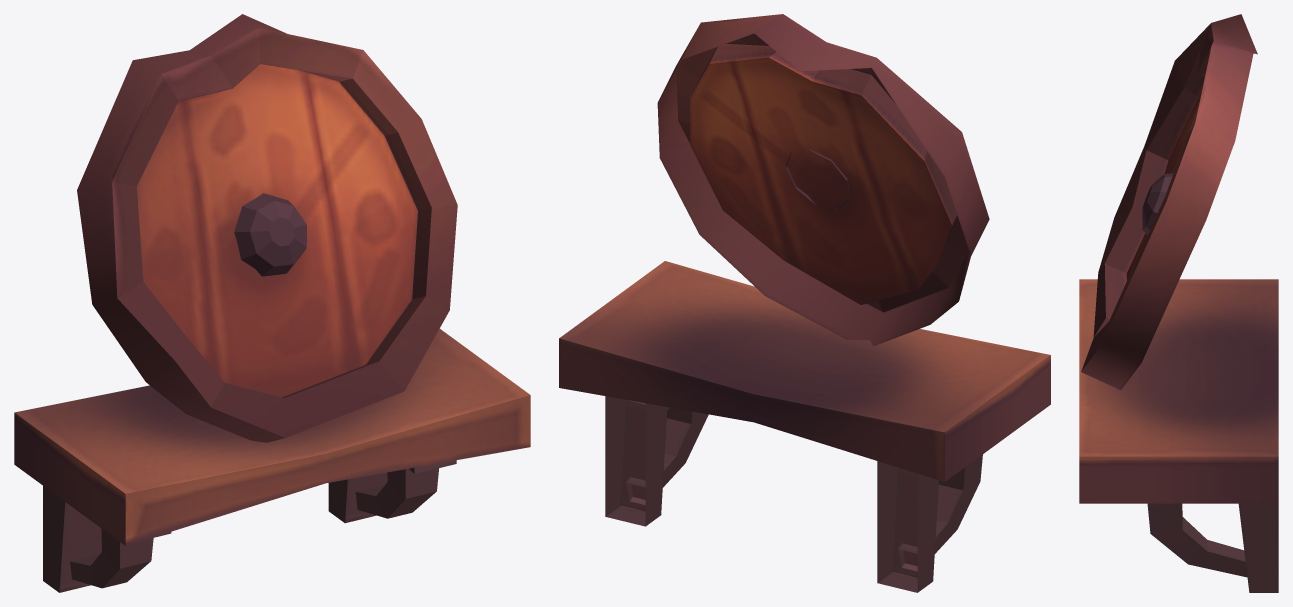
File: 방패전시.fbx
3 renders of one model, left to right at view 1: azimuth 30°, elevation 25°; view 2: azimuth 150°, elevation 25°; view 3: azimuth 270°, elevation 25°, orthographic. The views are drawn at different scales.
Visible parts, largest first — view 1: 방패전시; view 2: 방패전시; view 3: 방패전시.
Boxes of the visible parts, x1=… form: 방패전시: x1=14, y1=14, x2=530, y2=592; 방패전시: x1=559, y1=14, x2=1050, y2=592; 방패전시: x1=1079, y1=14, x2=1278, y2=592.
Bounding box in the file's own units: 1.86 × 2.36 × 0.8846.
Materials: 1 (1 with a texture image).
